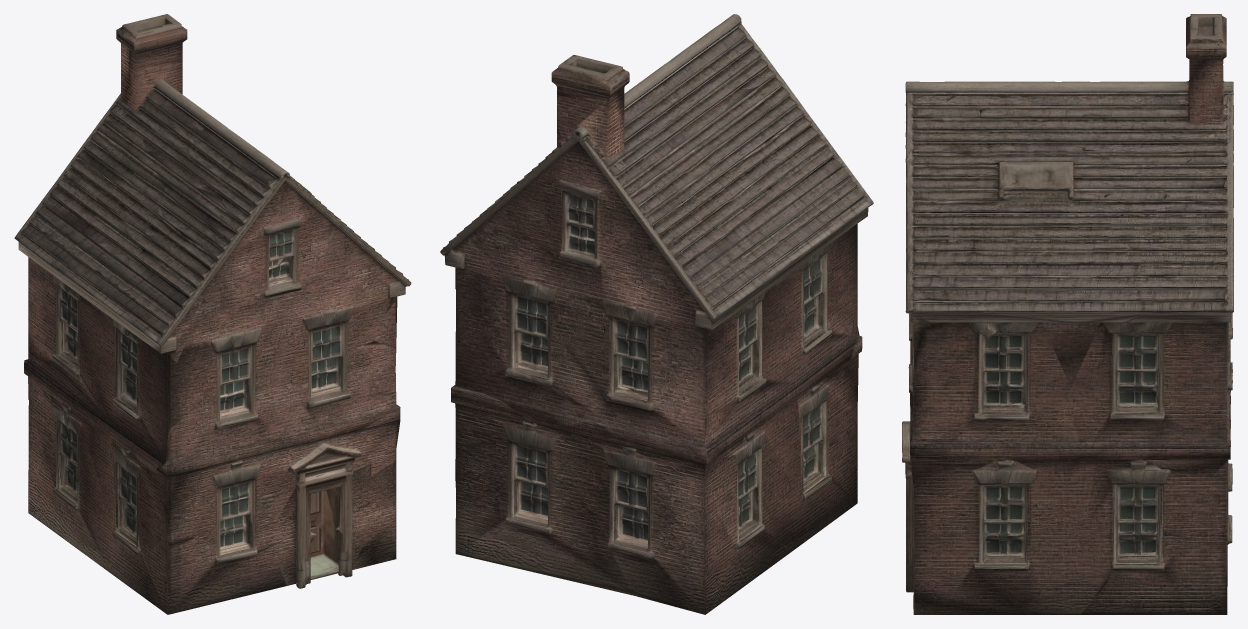
The model's file is bldg-warehouse-wharf-b.glb.
3 renders of one model, left to right at view 1: azimuth 30°, elevation 25°; view 2: azimuth 150°, elevation 25°; view 3: azimuth 270°, elevation 25°, orthographic. The views are drawn at different scales.
Parts seen in each view (by area): view 1: Mesh_0; view 2: Mesh_0; view 3: Mesh_0.
Boxes of the visible parts, bbox=[...] form: Mesh_0: bbox=[14, 14, 411, 614]; Mesh_0: bbox=[440, 14, 873, 614]; Mesh_0: bbox=[902, 14, 1233, 614].
Size of the model in its own units: 1.07 by 1.9 by 1.08.
Materials: 1 (1 with a texture image).
